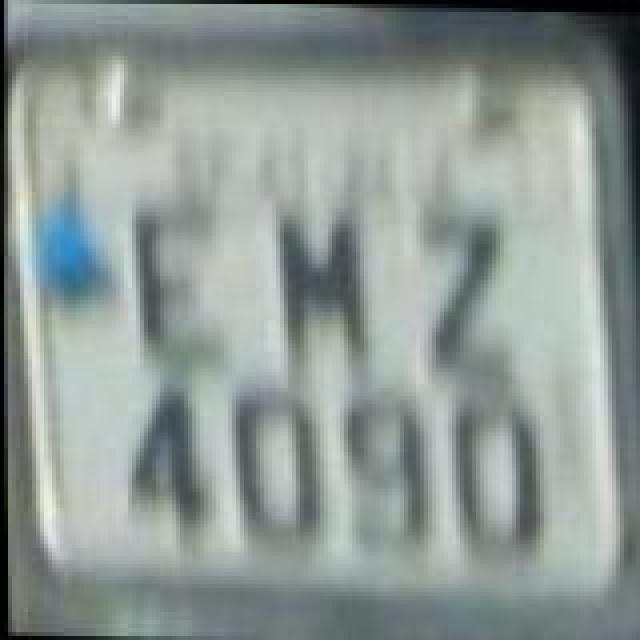4: (114, 374, 214, 562)
9: (344, 394, 432, 554)
E: (122, 190, 238, 362)
M: (264, 214, 384, 386)
O: (226, 390, 326, 554), (448, 392, 544, 560)
Z: (410, 206, 518, 386)
